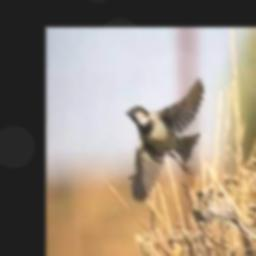Sparrow: (125, 76, 204, 202)
